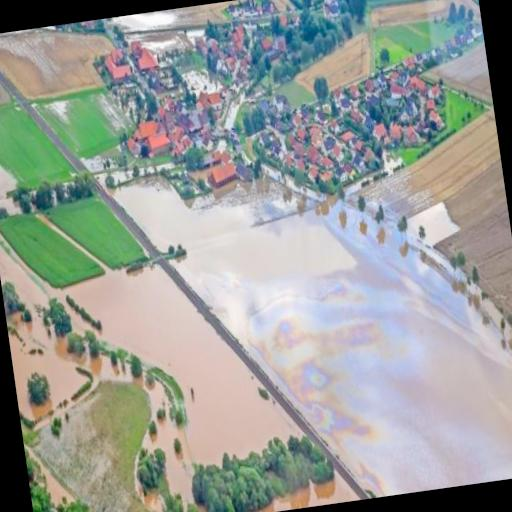flood: (114, 181, 512, 497), (0, 236, 300, 505), (260, 476, 359, 512), (29, 451, 74, 507), (0, 167, 14, 205)
house: (128, 116, 178, 159), (202, 156, 238, 191), (100, 51, 132, 85), (132, 44, 161, 72)
